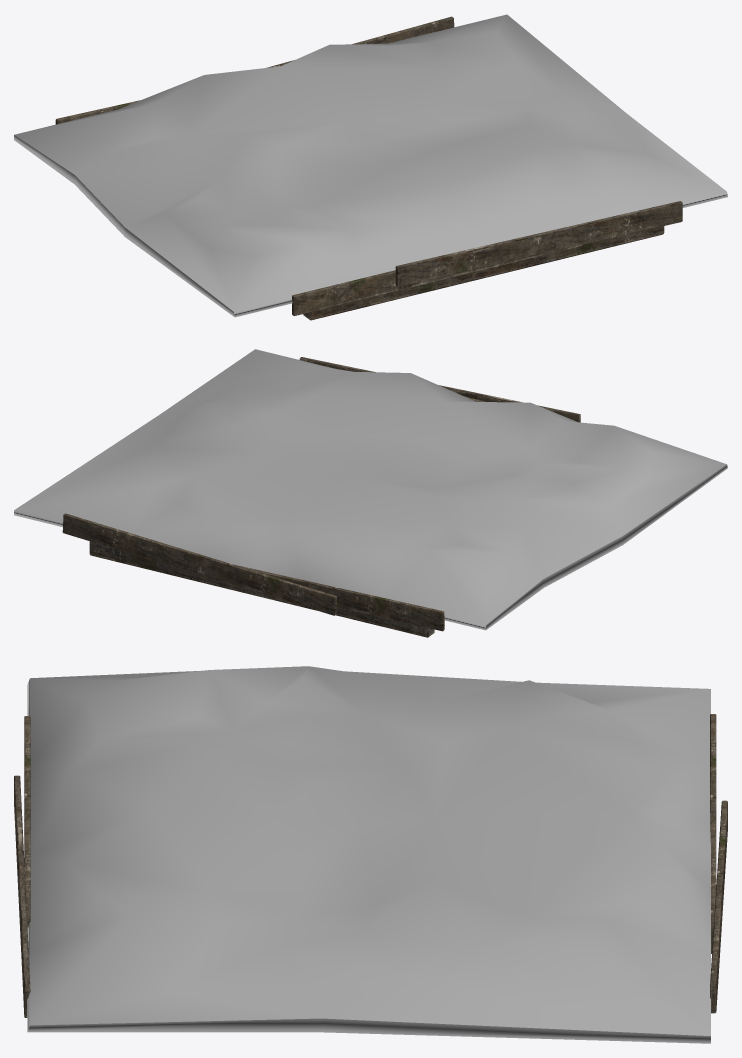
The model's file is Top_Ground_Platform_Double.fbx.
The picture shows the model from 3 angles, top to bottom: view 1: azimuth 30°, elevation 25°; view 2: azimuth 150°, elevation 25°; view 3: azimuth 270°, elevation 25°; orthographic projection. The views are drawn at different scales.
Visible parts, largest first — view 1: Top_Ground_Platform_Double_LOD0; view 2: Top_Ground_Platform_Double_LOD0; view 3: Top_Ground_Platform_Double_LOD0.
Part boxes in pixels (bbox=[...]): Top_Ground_Platform_Double_LOD0: bbox=[14, 14, 727, 320]; Top_Ground_Platform_Double_LOD0: bbox=[14, 349, 727, 637]; Top_Ground_Platform_Double_LOD0: bbox=[14, 666, 727, 1043].
Size of what is drawn, in the model's own units: 400 by 46.96 by 337.
